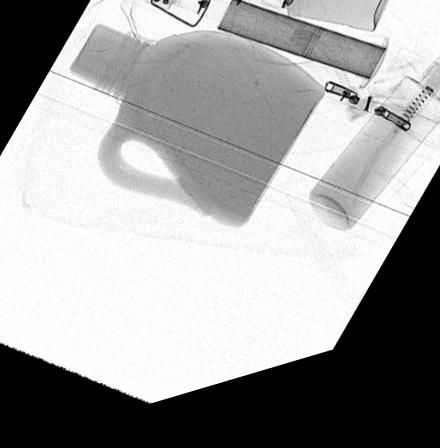Sprayer: (259, 0, 396, 53)
